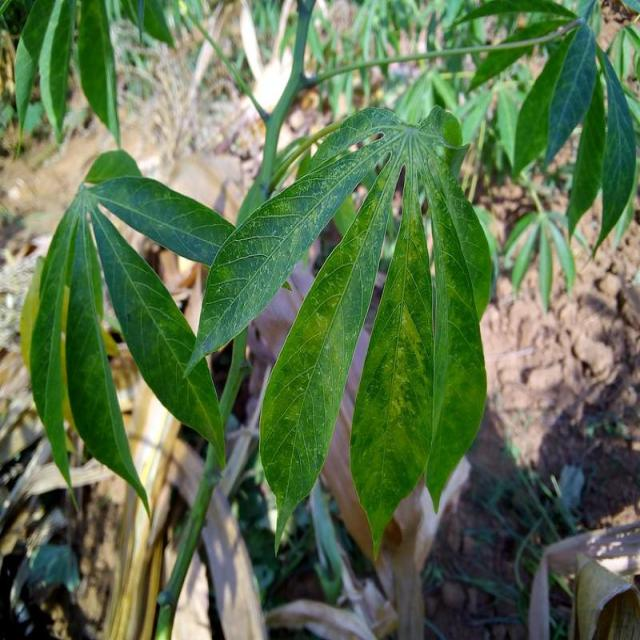cassava leaf: (187, 103, 492, 562), (22, 148, 236, 520)
